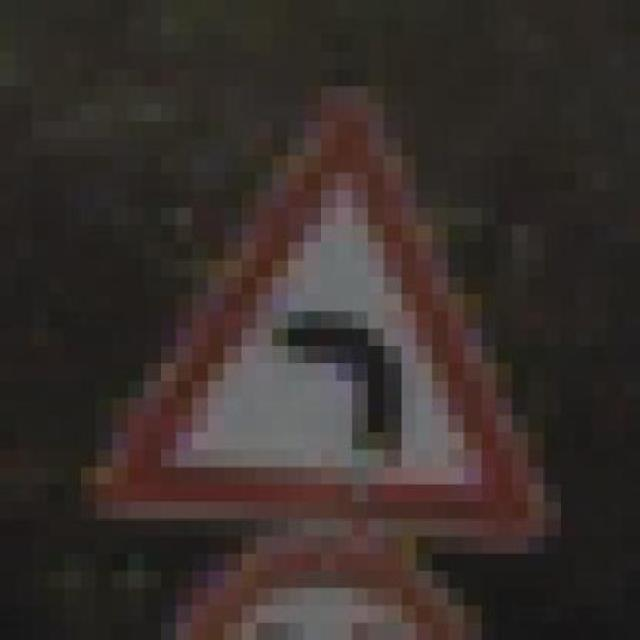Dangerous Left Curve Ahead: (79, 86, 576, 554)
